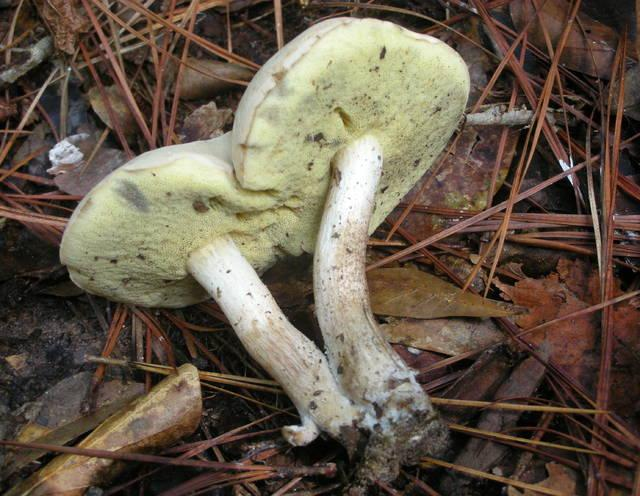edible_mushroom: (57, 14, 471, 487)
